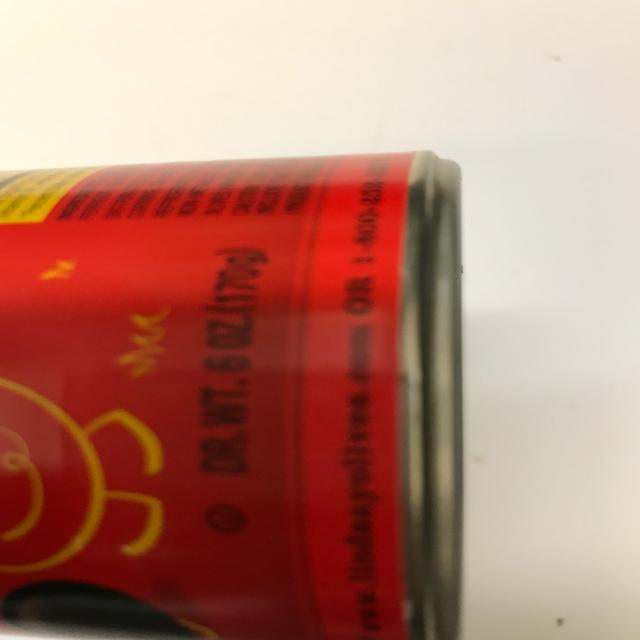metal: (0, 149, 465, 640)
